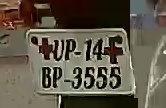1: (84, 36, 92, 63)
3: (73, 63, 82, 93)
4: (92, 38, 102, 61)
5: (109, 65, 123, 90), (96, 64, 108, 90), (84, 66, 95, 92)
B: (40, 65, 51, 89)
P: (64, 37, 75, 63), (51, 65, 62, 91)
U: (53, 39, 66, 63)
